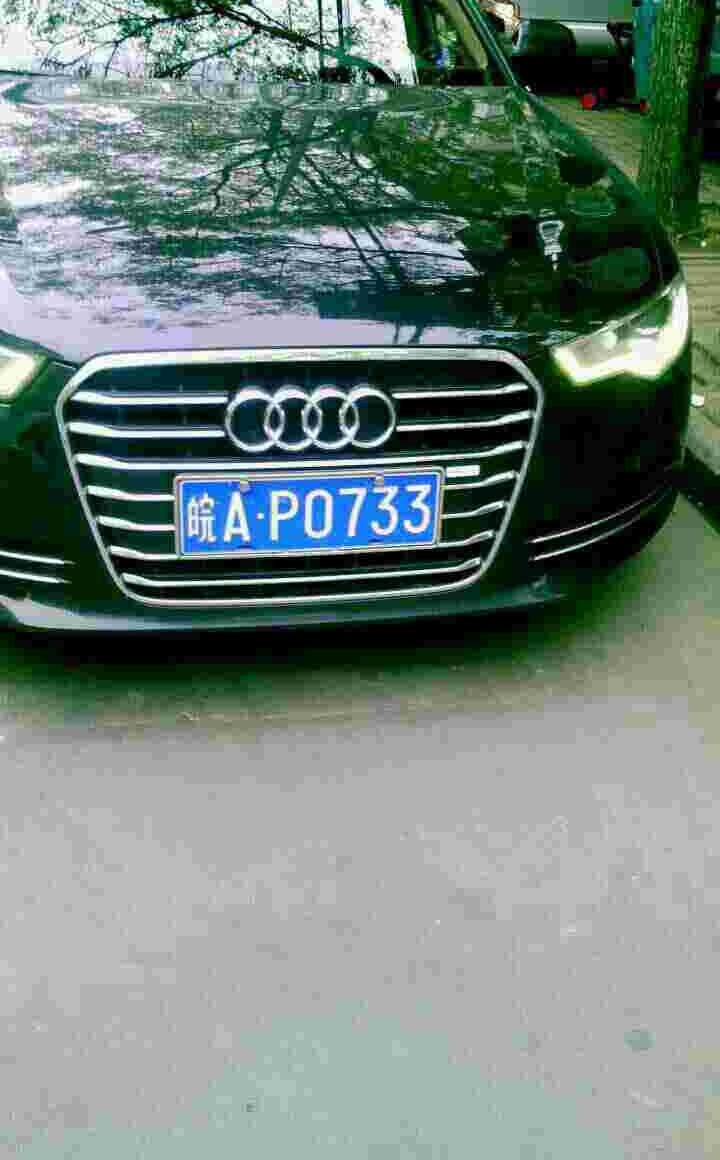license_plate: (179, 472, 436, 562)
